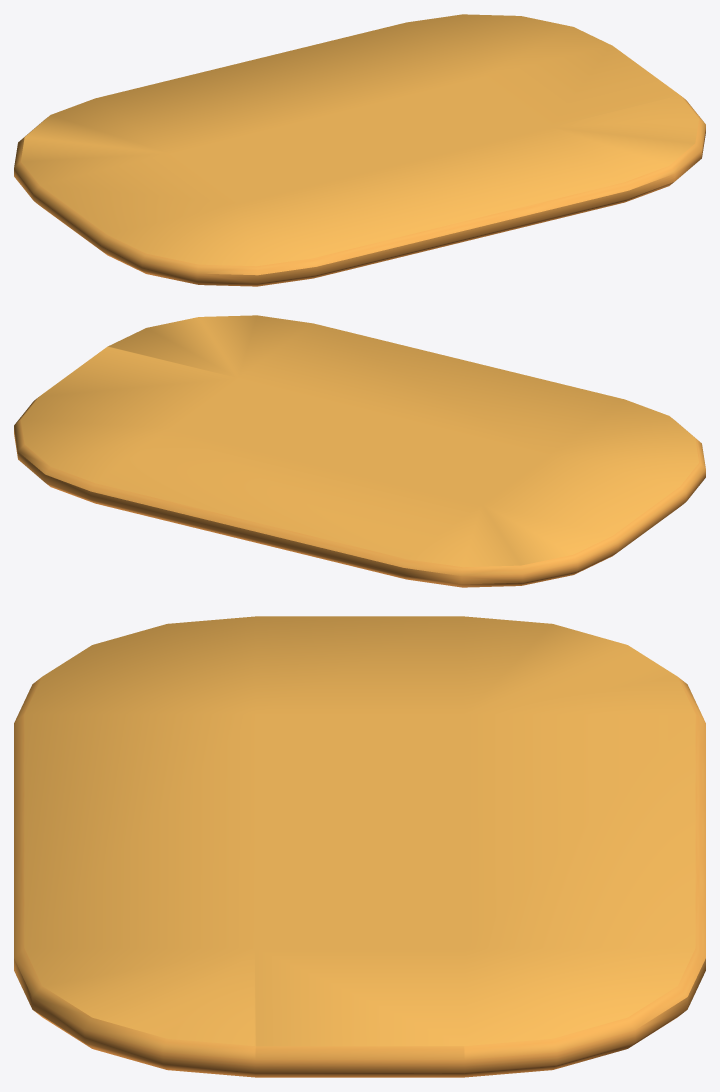
File: rug-oval-a.glb
3 views of the same model, one above another, from view 1: azimuth 30°, elevation 25°; view 2: azimuth 150°, elevation 25°; view 3: azimuth 270°, elevation 25° (orthographic). The views are drawn at different scales.
Visible parts, largest first — view 1: rug_oval_A; view 2: rug_oval_A; view 3: rug_oval_A.
Part boxes in pixels (box(x1,y1,x2,y2)): rug_oval_A: box(14, 14, 705, 286); rug_oval_A: box(14, 315, 705, 587); rug_oval_A: box(14, 616, 705, 1077).
Size of the model in its own units: 3 by 0.1 by 2.
Materials: 1 (1 with a texture image).
